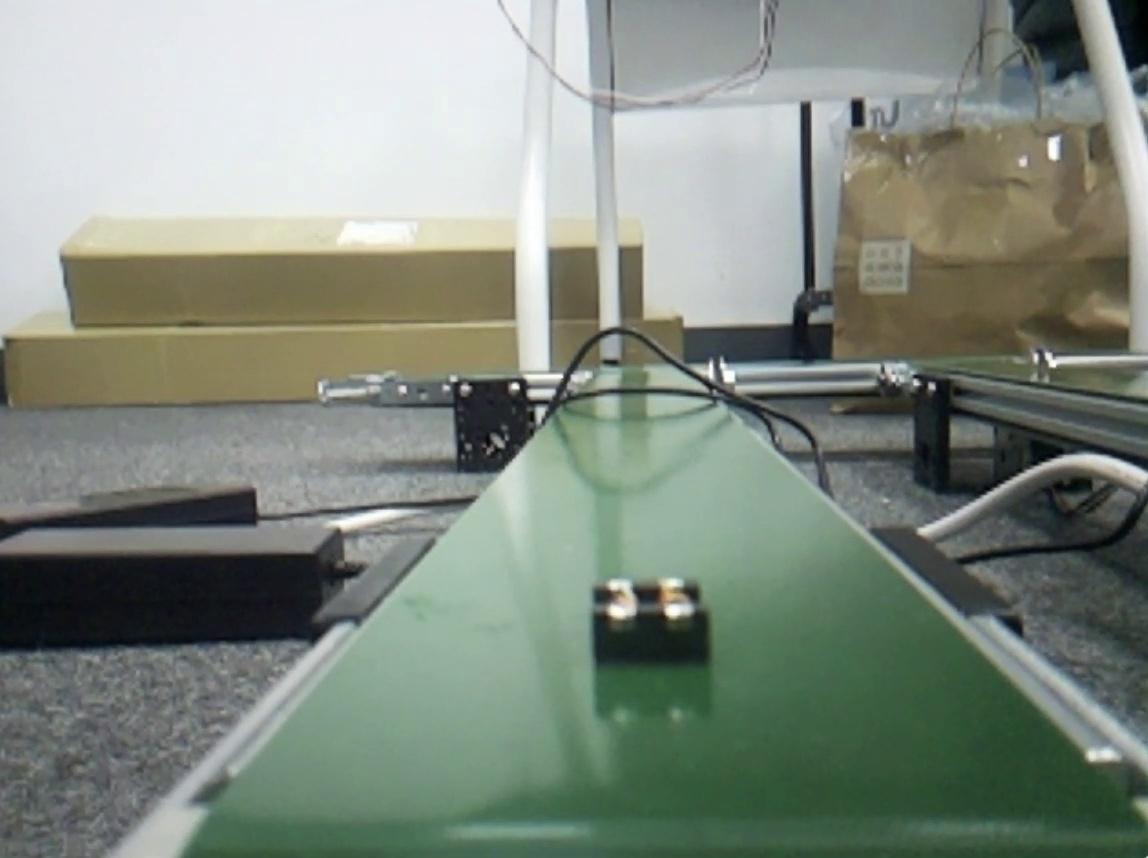inductor: (592, 582, 712, 666)
